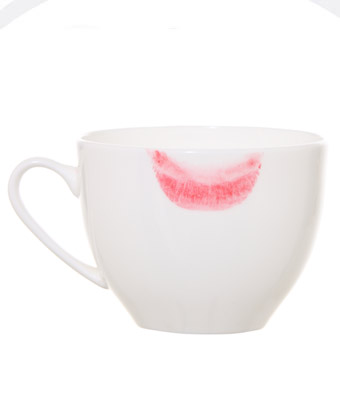cup: (8, 123, 324, 336)
